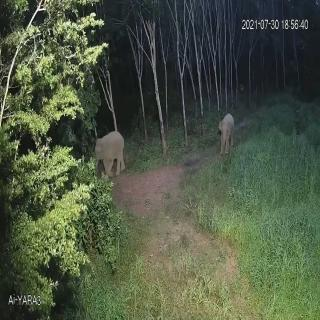Elephant: (90, 128, 130, 179), (218, 110, 237, 160)
